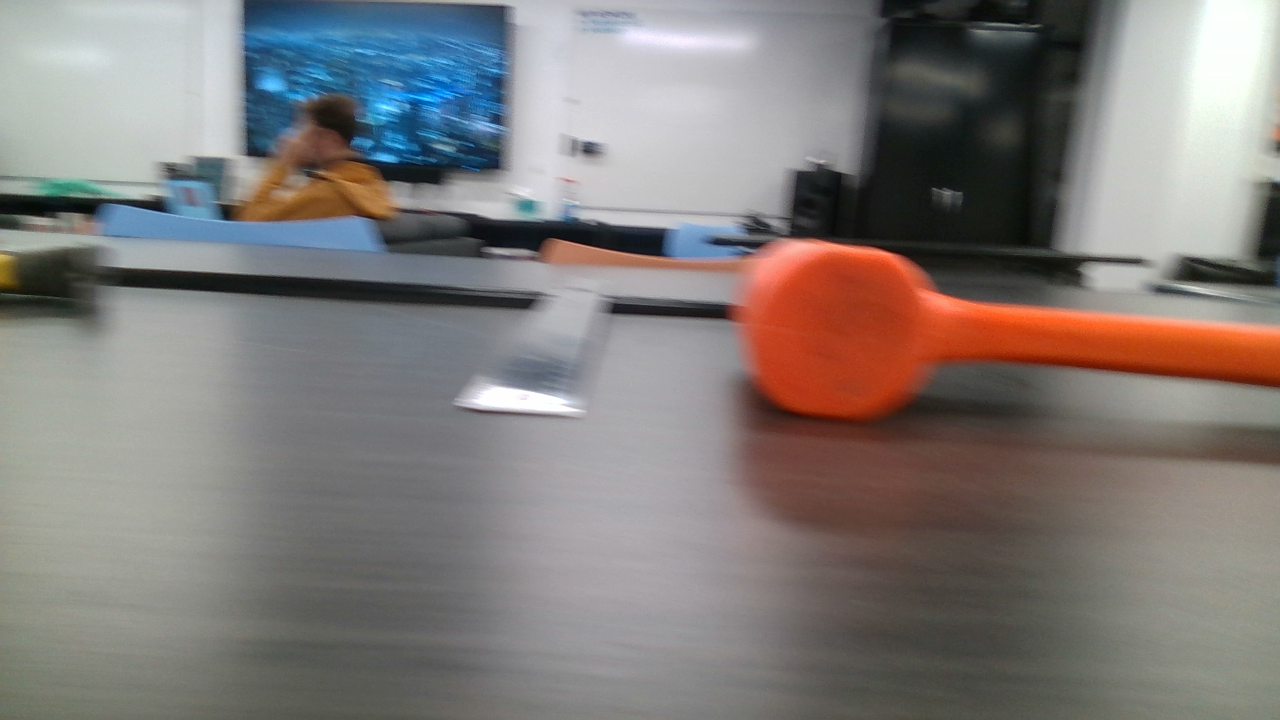Orange Hammer: (737, 240, 1272, 424)
